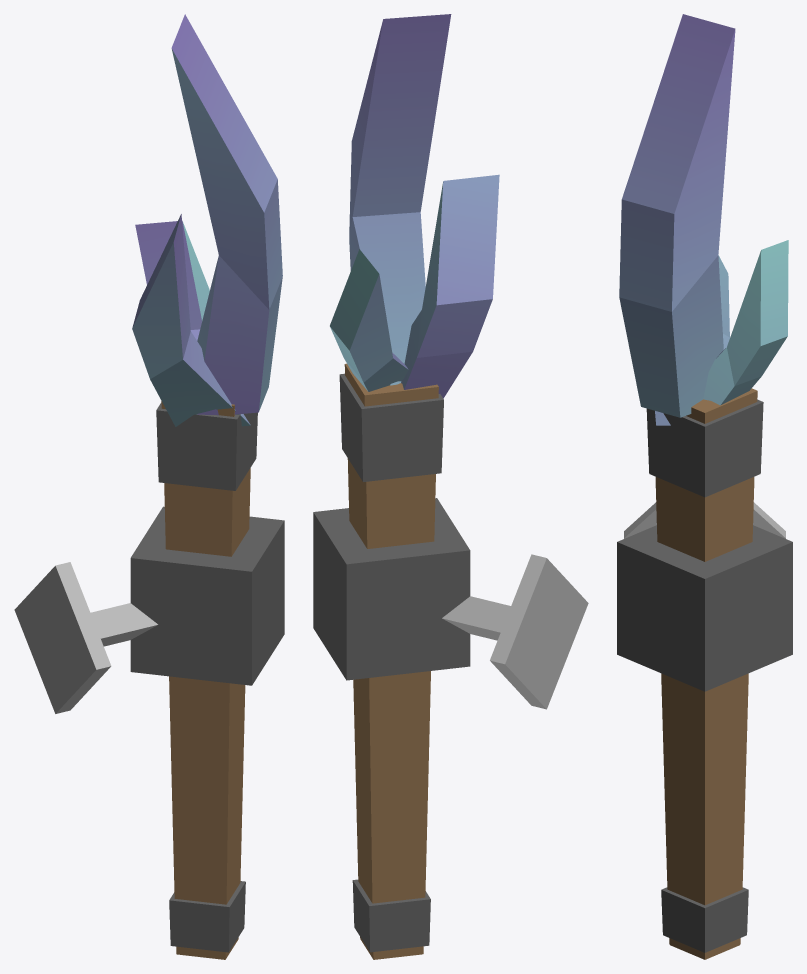
File: PurpleTorchLit.fbx
The picture shows the model from 3 angles, left to right: view 1: azimuth 30°, elevation 25°; view 2: azimuth 150°, elevation 25°; view 3: azimuth 270°, elevation 25°; orthographic projection. The views are drawn at different scales.
Parts seen in each view (by area): view 1: PurpleTorchLit; view 2: PurpleTorchLit; view 3: PurpleTorchLit.
Boxes of the visible parts, x1=… form: PurpleTorchLit: x1=14, y1=14, x2=284, y2=959; PurpleTorchLit: x1=313, y1=14, x2=588, y2=959; PurpleTorchLit: x1=617, y1=14, x2=792, y2=959.
Size of the model in its own units: 22.82 by 87.85 by 15.34.
